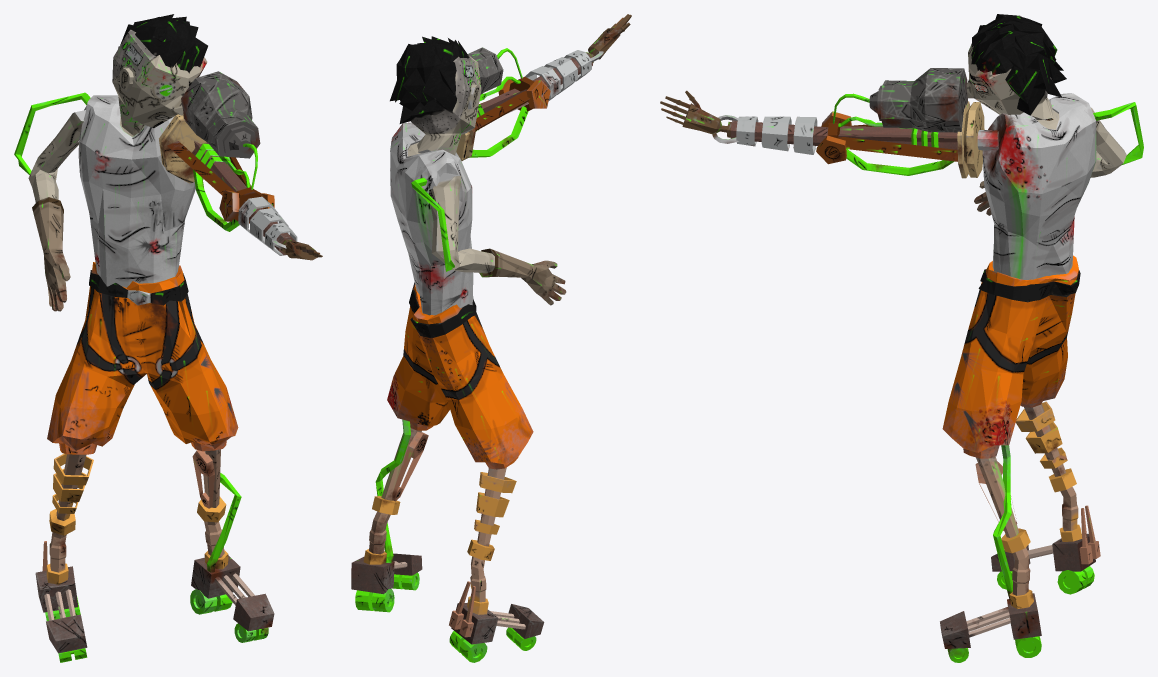
The model's file is CyborgFINALAnimation_000110.obj.
The picture shows the model from 3 angles, left to right: view 1: azimuth 30°, elevation 25°; view 2: azimuth 150°, elevation 25°; view 3: azimuth 270°, elevation 25°; orthographic projection. The views are drawn at different scales.
Parts seen in each view (by area): view 1: CyborgMesh_Cube.002; view 2: CyborgMesh_Cube.002; view 3: CyborgMesh_Cube.002.
Part boxes in pixels (left/top/right/bottom): CyborgMesh_Cube.002: left=14, top=14, right=322, bottom=662; CyborgMesh_Cube.002: left=351, top=14, right=631, bottom=662; CyborgMesh_Cube.002: left=660, top=14, right=1143, bottom=662.
Size of the model in its own units: 3.28 by 9.58 by 6.88.
